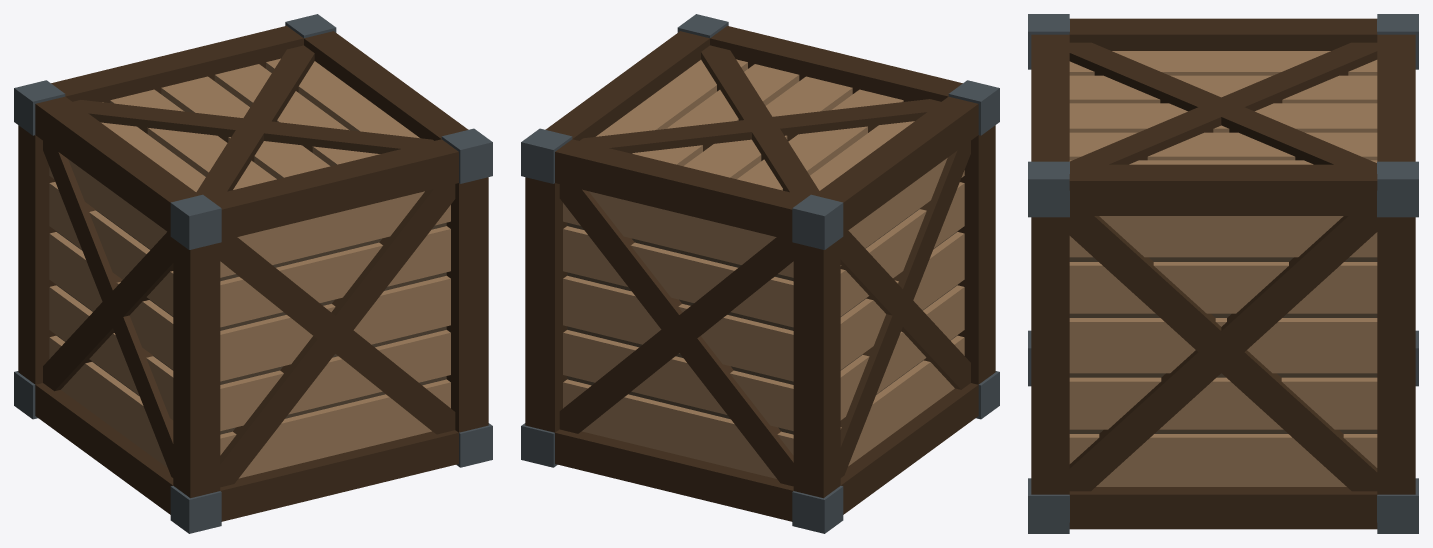
3 renders of one model, left to right at view 1: azimuth 30°, elevation 25°; view 2: azimuth 150°, elevation 25°; view 3: azimuth 270°, elevation 25°, orthographic. The views are drawn at different scales.
Parts seen in each view (by area): view 1: Box 2, Beams; view 2: Box 2, Beams; view 3: Box 2, Beams.
Part boxes in pixels (bbox=[...]): Box 2: bbox=[14, 14, 492, 533]; Beams: bbox=[43, 45, 455, 487]; Box 2: bbox=[521, 14, 999, 533]; Beams: bbox=[559, 45, 970, 486]; Box 2: bbox=[1028, 14, 1418, 533]; Beams: bbox=[1069, 42, 1377, 491].
Bounding box in the file's own units: 32.84 × 32.84 × 32.81.
